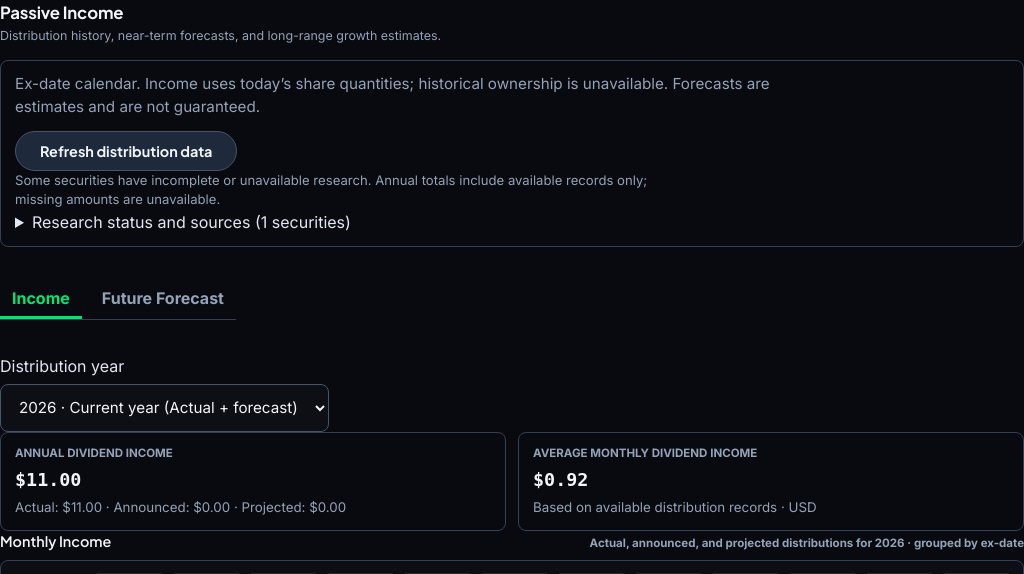
Test: PassiveIncomePage distribution research › keeps available records on refresh failure and retries with accessible progress
Click the button "Refresh distribution data" at (126, 150), box [15, 130, 237, 170]
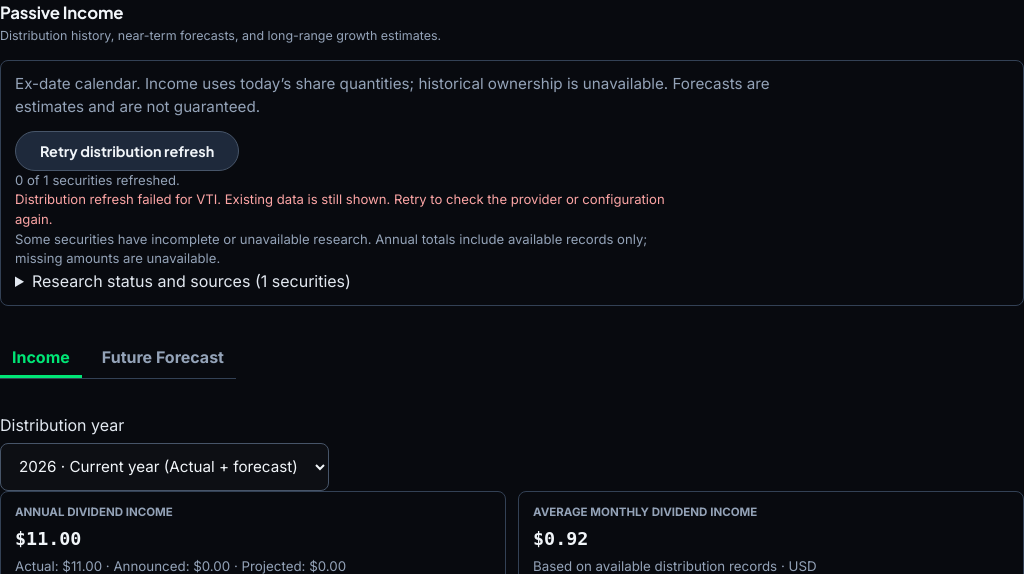
Expected: the message that starts with "Distribution refresh failed for" shows "failed for VTI", [15, 190, 677, 230]
Click the button "Retry distribution refresh" at (127, 150), box [15, 130, 239, 170]
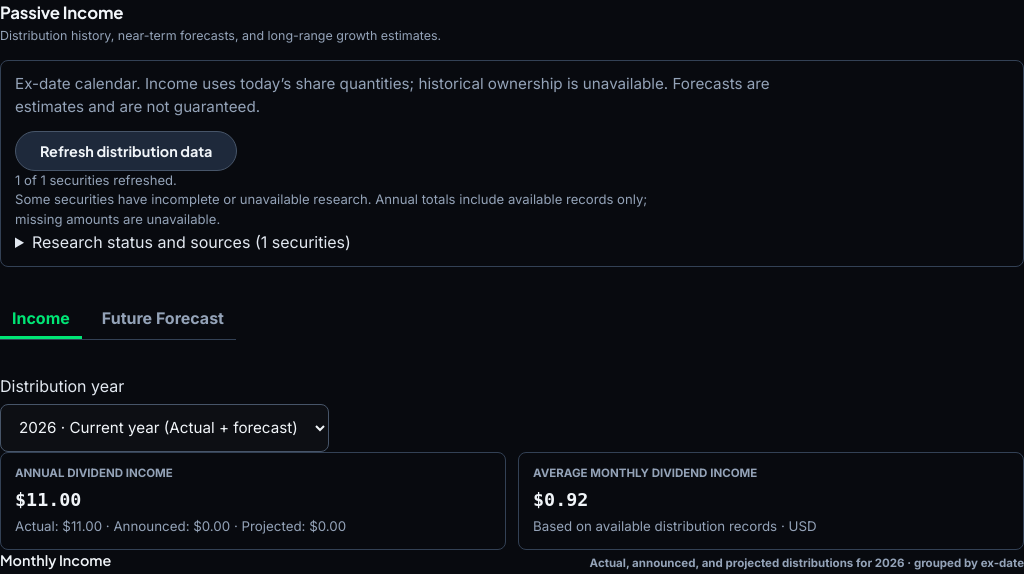
Expected: the text "1 of 1 securities refreshed." is shown, [15, 172, 177, 188]
